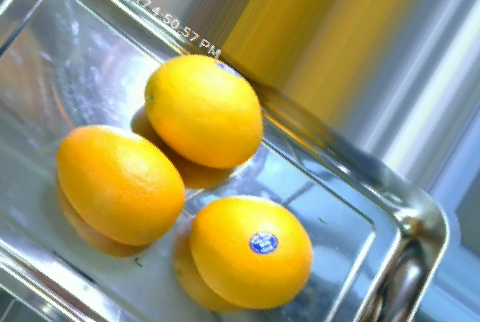Orange: (55, 123, 185, 245), (189, 194, 312, 309), (144, 55, 264, 170)
